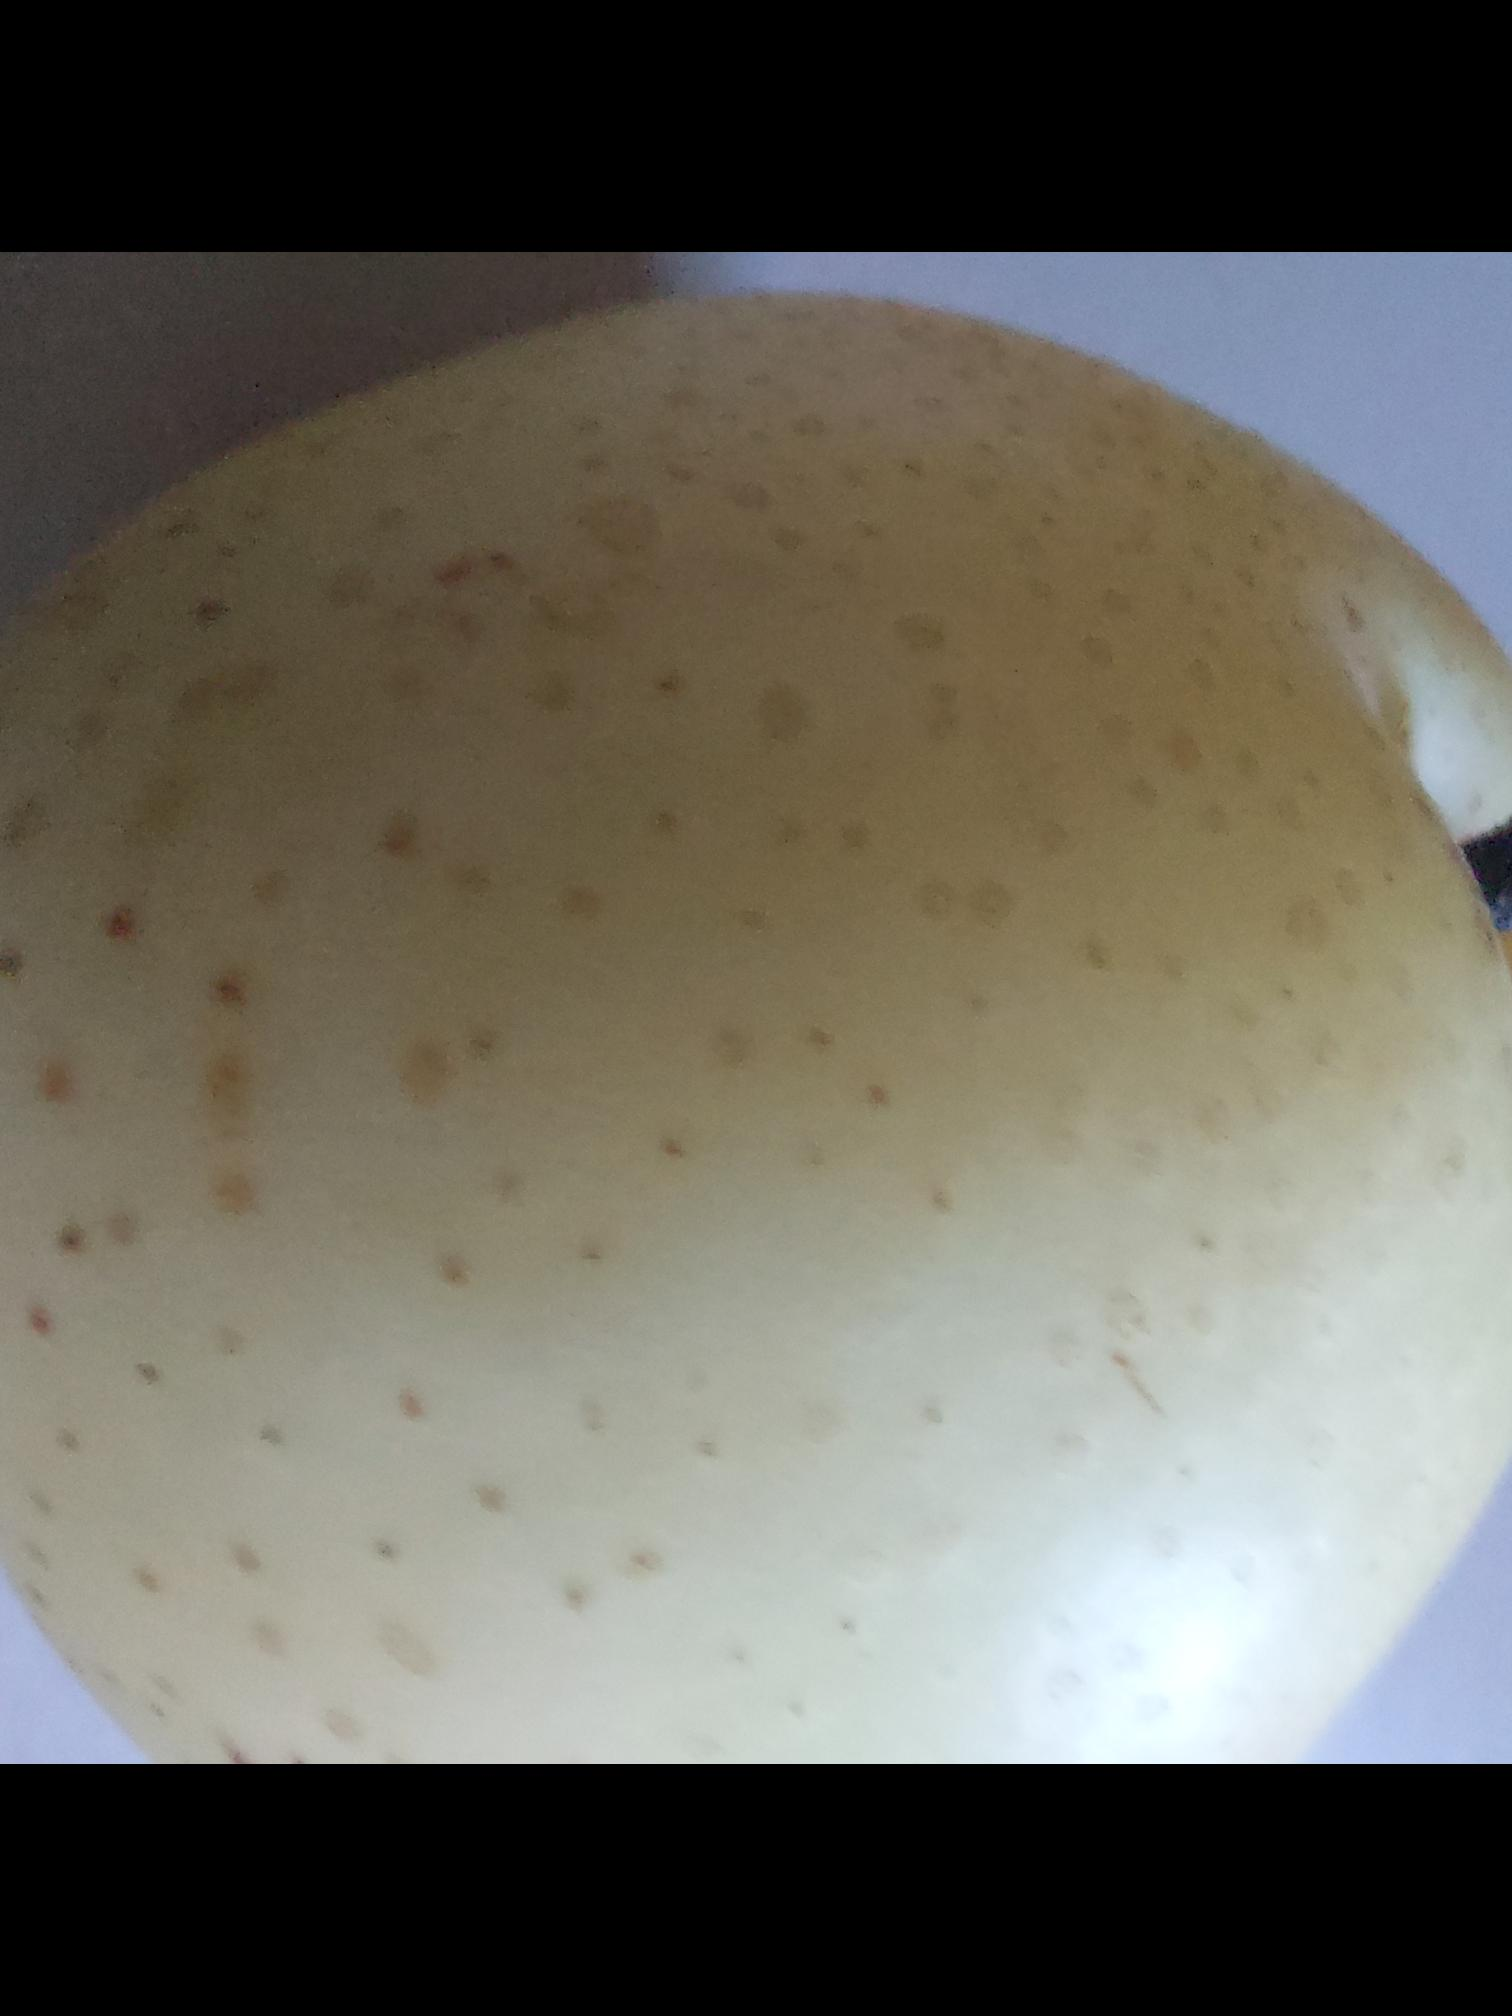Good Pear: (0, 279, 1512, 1764)
